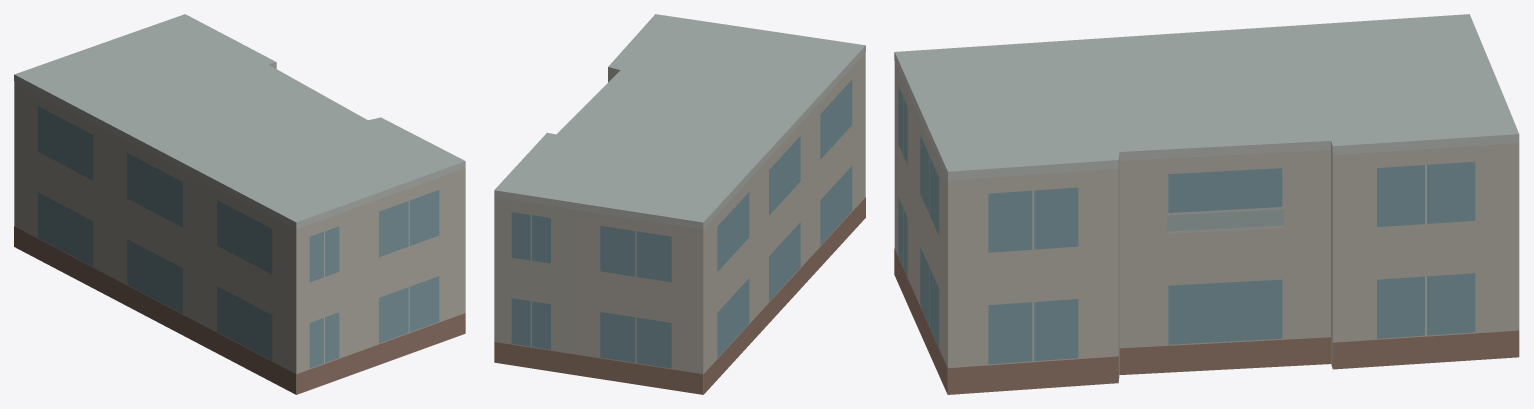
File: survey-upis-32656436.glb
3 renders of one model, left to right at view 1: azimuth 30°, elevation 25°; view 2: azimuth 150°, elevation 25°; view 3: azimuth 270°, elevation 25°, orthographic. The views are drawn at different scales.
Visible parts, largest first — view 1: survey-upis-32656436.tmp; view 2: survey-upis-32656436.tmp; view 3: survey-upis-32656436.tmp.
Boxes of the visible parts, left/top/right/bottom form: survey-upis-32656436.tmp: left=14, top=14, right=465, bottom=394; survey-upis-32656436.tmp: left=494, top=14, right=865, bottom=394; survey-upis-32656436.tmp: left=894, top=14, right=1519, bottom=394.
Bounding box in the file's own units: 9.26 × 6.1 × 15.49.
